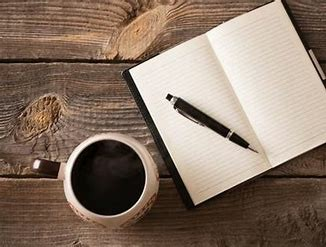pen: (163, 90, 260, 155)
